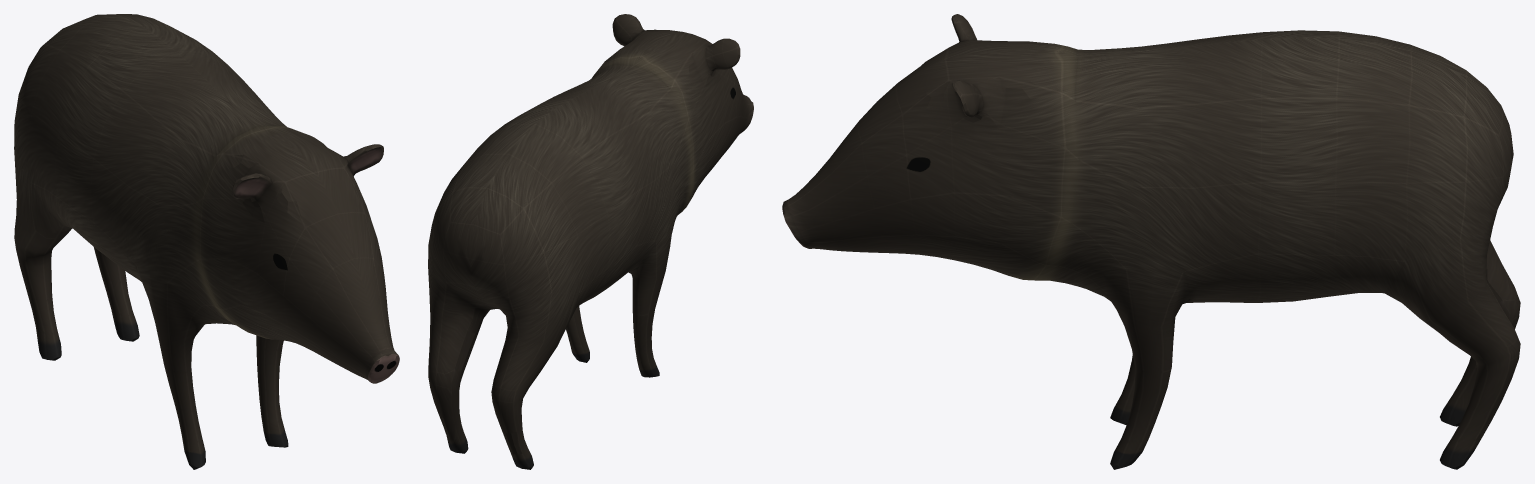
File: Saino.gltf
3 renders of one model, left to right at view 1: azimuth 30°, elevation 25°; view 2: azimuth 150°, elevation 25°; view 3: azimuth 270°, elevation 25°, orthographic. The views are drawn at different scales.
Parts seen in each view (by area): view 1: Saino; view 2: Saino; view 3: Saino.
Boxes of the visible parts, <box> form: Saino: <box>14,14,399,469</box>; Saino: <box>428,14,753,469</box>; Saino: <box>782,14,1520,469</box>.
Bounding box in the file's own units: 0.8155 × 1.6 × 2.63.
Materials: 1 (1 with a texture image).
